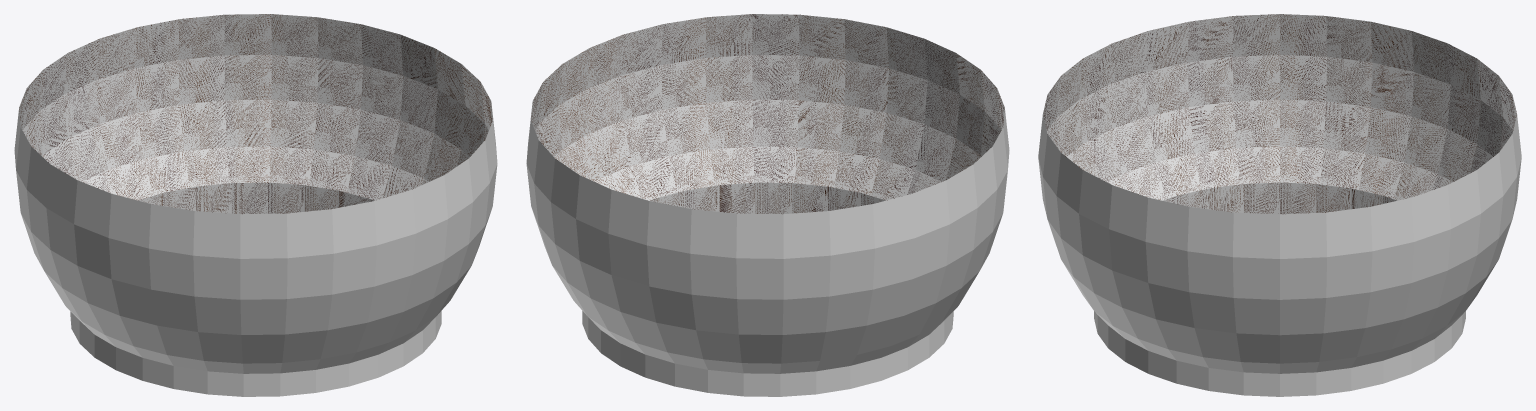
File: bowl.fbx
3 views of the same model, side by side, from view 1: azimuth 30°, elevation 25°; view 2: azimuth 150°, elevation 25°; view 3: azimuth 270°, elevation 25° (orthographic).
Parts seen in each view (by area): view 1: Bowl-Outside, Bowl-Inside; view 2: Bowl-Outside, Bowl-Inside; view 3: Bowl-Outside, Bowl-Inside.
Boxes of the visible parts, box(x1,y1,x2,y2) form: Bowl-Outside: box(14, 14, 497, 396); Bowl-Inside: box(19, 14, 492, 213); Bowl-Outside: box(526, 14, 1009, 396); Bowl-Inside: box(531, 14, 1004, 213); Bowl-Outside: box(1038, 14, 1521, 396); Bowl-Inside: box(1043, 14, 1516, 213).
Size of the model in its own units: 260 by 121 by 260.
1 material, 1 textured.
